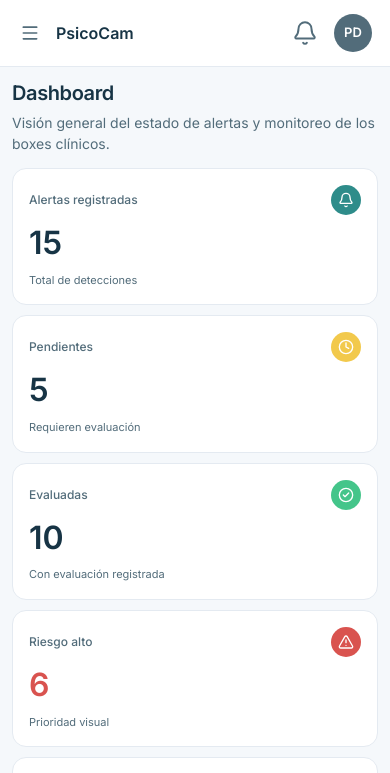
Test: Integración de SCRUM-27 › cierra el menú móvil al navegar o cancelar el diálogo
Later steps or results of the test are not shown.
Click the button named "Abrir menú". click: click(30, 33)
box: [12,15,48,51]
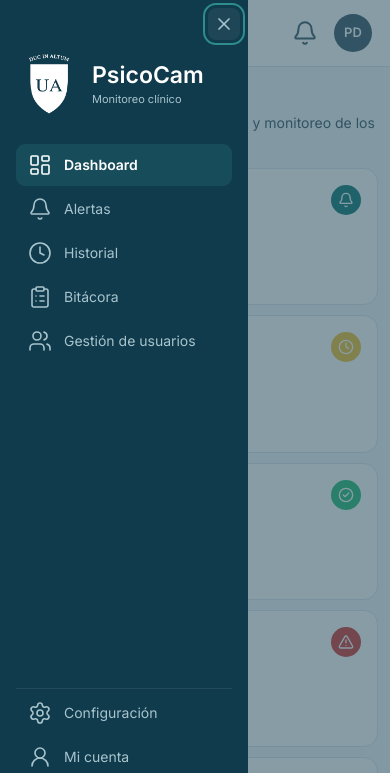
Click the link "Historial". click: click(73, 253)
box: [28,241,118,265]
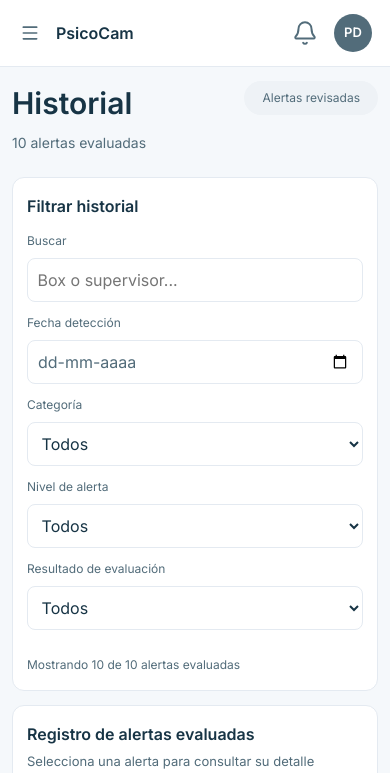
Now the heading "Historial" is shown, box [12,81,146,126]
